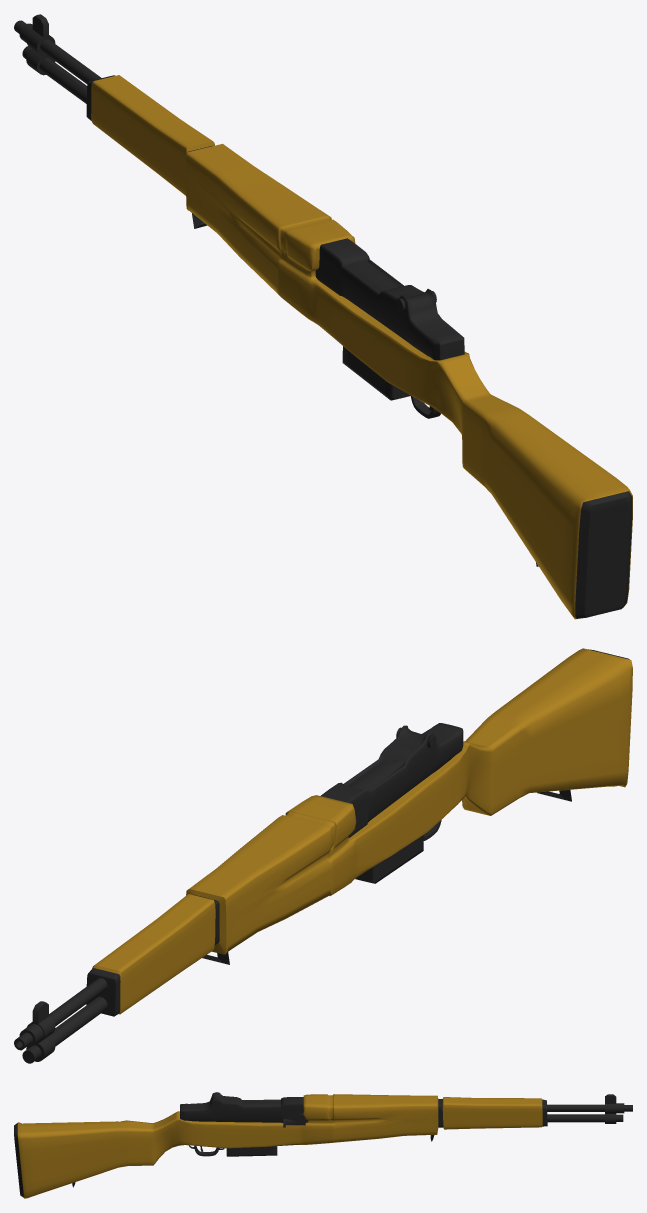
3 views of the same model, one above another, from view 1: azimuth 30°, elevation 25°; view 2: azimuth 150°, elevation 25°; view 3: azimuth 270°, elevation 25° (orthographic). The views are drawn at different scales.
Visible parts, largest first — view 1: pCylinder5; view 2: pCylinder5; view 3: pCylinder5.
Part boxes in pixels (bbox=[...]): pCylinder5: bbox=[14, 14, 632, 619]; pCylinder5: bbox=[14, 648, 632, 1063]; pCylinder5: bbox=[14, 1092, 632, 1198].
Bounding box in the file's own units: 7.49 × 22.1 × 126.
